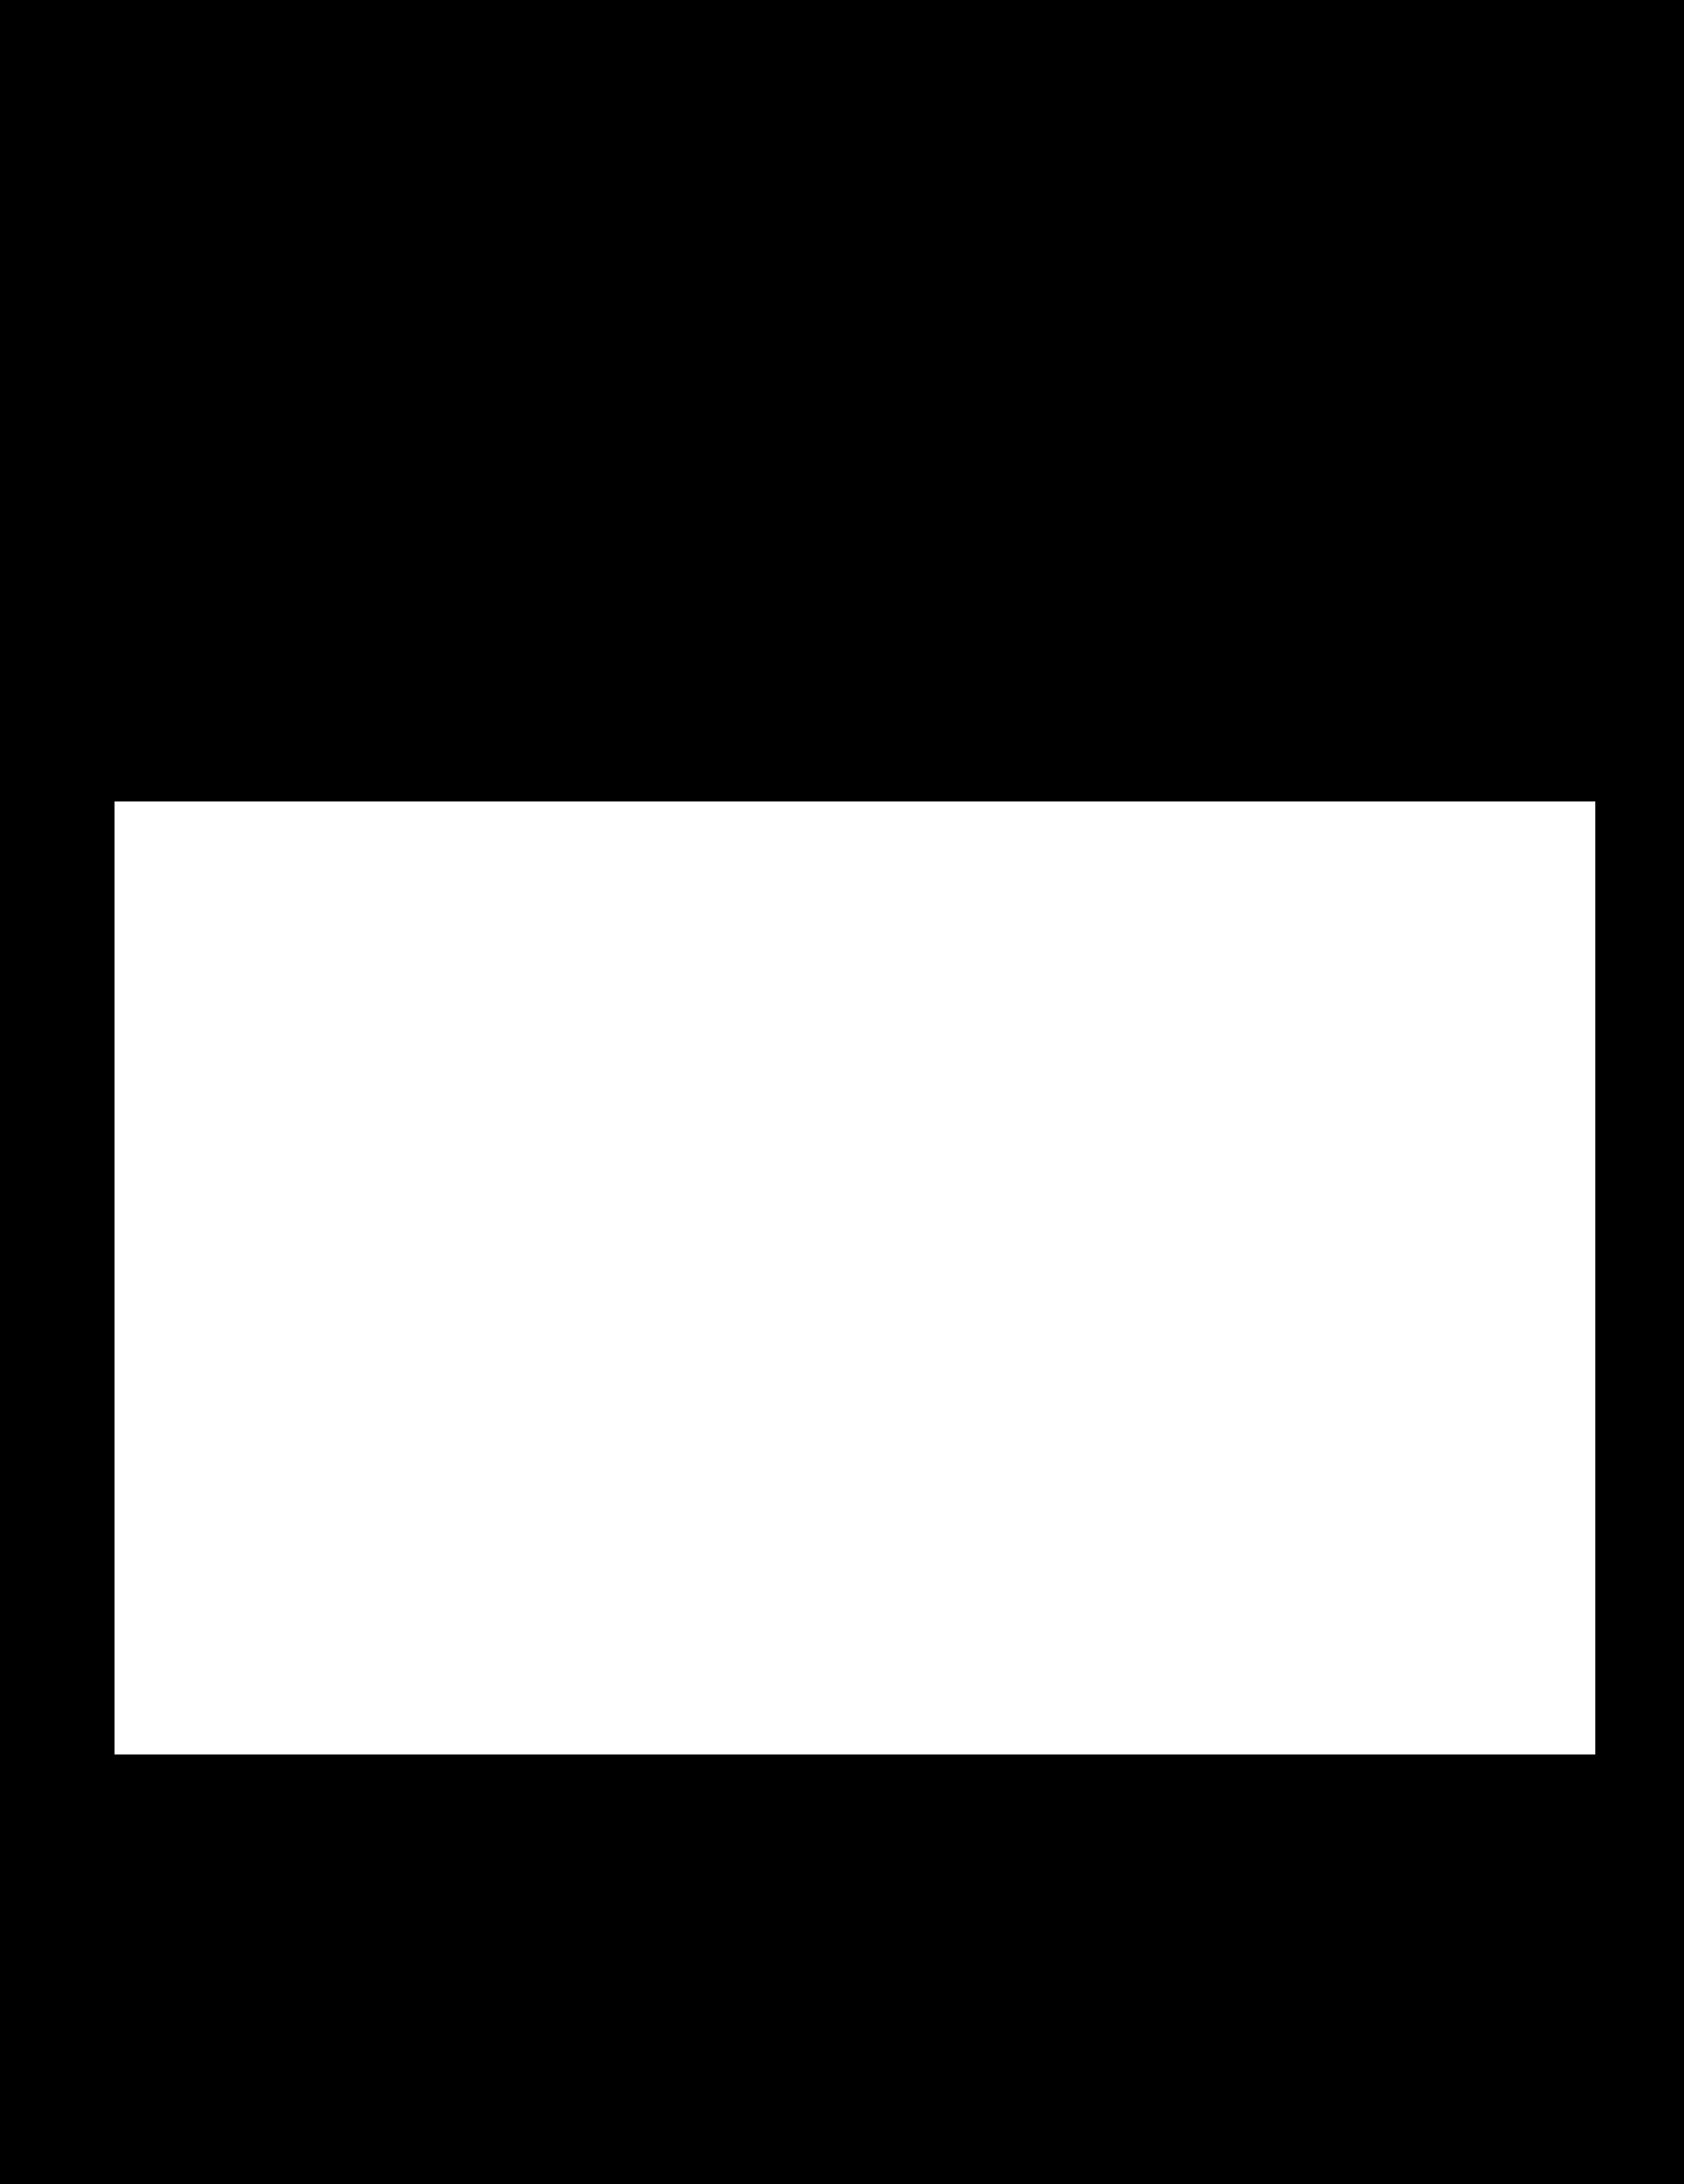table: (115, 801, 1594, 1754)
